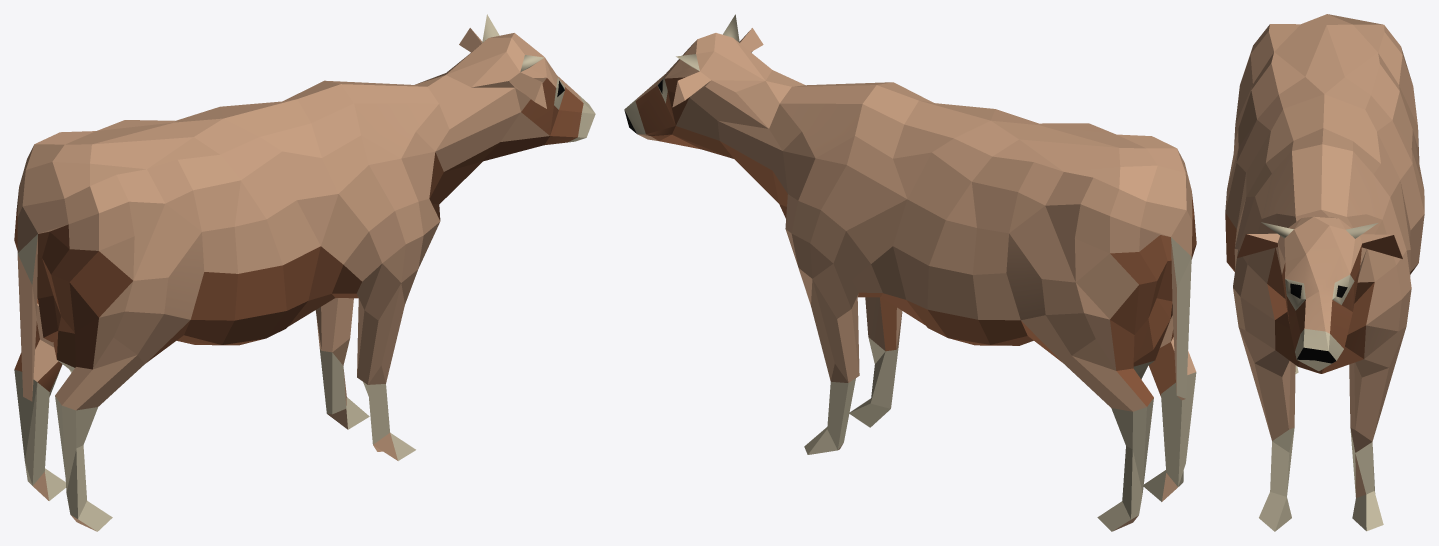
Rendered from cow.fbx.
3 views of the same model, side by side, from view 1: azimuth 30°, elevation 25°; view 2: azimuth 150°, elevation 25°; view 3: azimuth 270°, elevation 25° (orthographic).
Visible parts, largest first — view 1: grp1; view 2: grp1; view 3: grp1.
Boxes of the visible parts, box(x1,y1,x2,y2) form: grp1: box(14, 14, 595, 531); grp1: box(624, 14, 1196, 531); grp1: box(1225, 14, 1424, 531).
Bounding box in the file's own units: 14.56 × 9.03 × 4.38.
